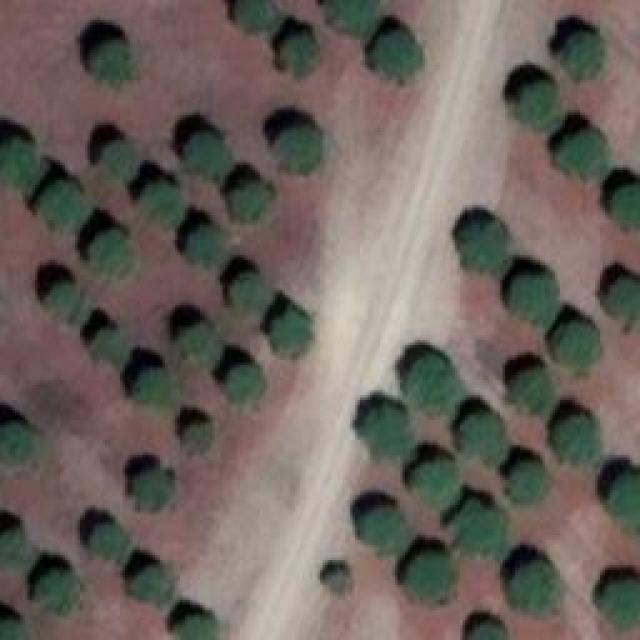Tree: (448, 203, 513, 278), (508, 263, 561, 323), (405, 350, 458, 410), (560, 122, 613, 180), (508, 557, 561, 615), (360, 405, 415, 455), (553, 408, 603, 463), (562, 30, 610, 83), (375, 25, 425, 75), (357, 508, 415, 551), (415, 455, 460, 510), (595, 575, 640, 630), (273, 125, 323, 173), (40, 175, 85, 228), (510, 368, 555, 421), (177, 320, 225, 368), (130, 465, 178, 513), (457, 412, 505, 460), (407, 552, 455, 600), (270, 313, 315, 363), (510, 83, 560, 128), (555, 318, 603, 363), (458, 505, 503, 553), (223, 363, 268, 408), (328, 0, 381, 38), (188, 133, 233, 176), (138, 180, 183, 223), (88, 40, 128, 88), (95, 232, 135, 280), (510, 452, 550, 500), (275, 33, 318, 76), (607, 475, 640, 530), (38, 565, 78, 610), (230, 178, 273, 218), (85, 518, 128, 558), (607, 182, 640, 232), (135, 560, 173, 603), (230, 270, 270, 310), (188, 225, 228, 265), (3, 135, 36, 183), (235, 0, 280, 35), (605, 278, 640, 323), (173, 612, 228, 640), (103, 140, 138, 178), (5, 415, 35, 458), (138, 365, 171, 400), (0, 525, 25, 568), (183, 420, 213, 455), (45, 280, 75, 315), (88, 330, 121, 360), (320, 558, 353, 588), (462, 620, 510, 640), (0, 617, 25, 640)
